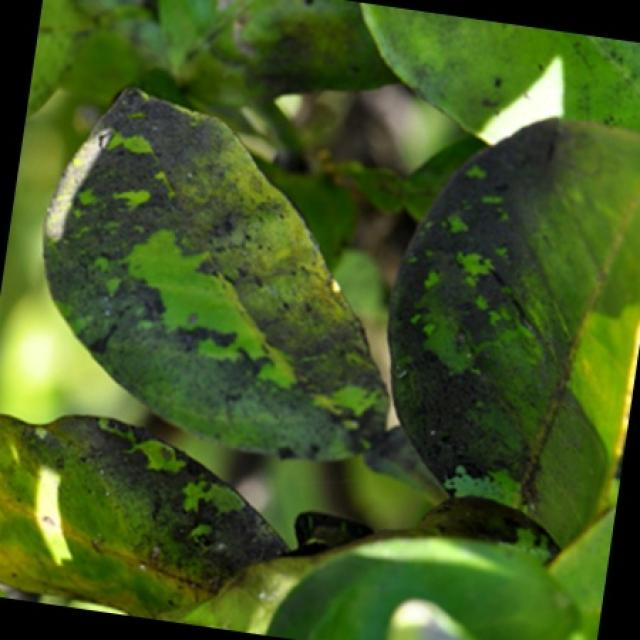Sooty Mold: (40, 84, 391, 462), (386, 114, 638, 549), (0, 407, 290, 620)
